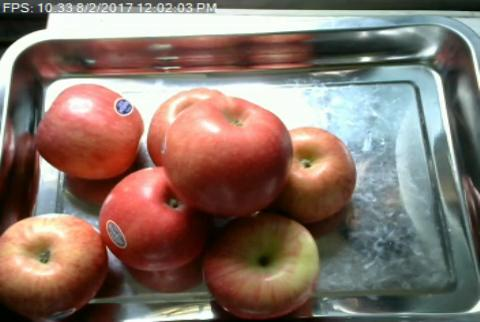apple: (164, 96, 289, 211), (206, 215, 321, 317), (0, 215, 106, 316), (101, 165, 203, 269), (38, 84, 140, 175), (282, 128, 354, 219)
